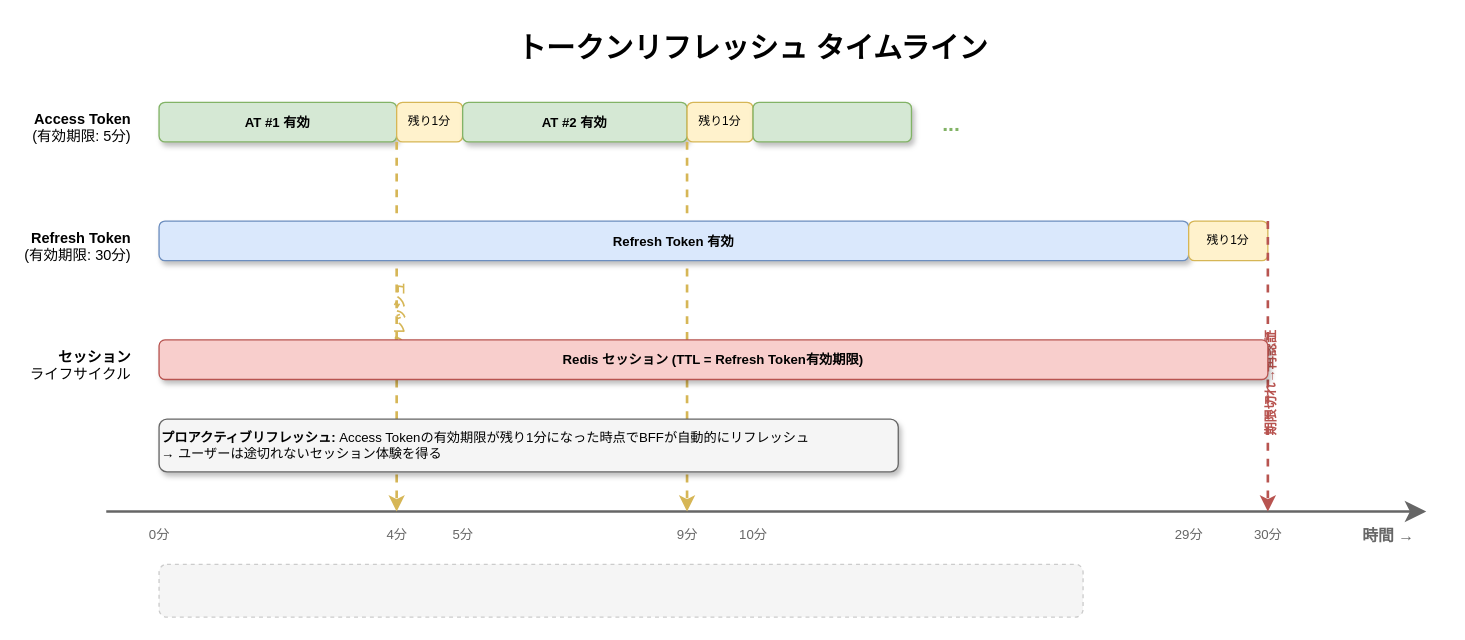
Image size: 1465x640. Some labels were removed from this diagram. The centre of each missing label's shape, as x and y in pixels:
AT #3 有効: [832,123]
凡例: ■ AT有効 ■ RT有効 ■ リフレッシュ閾値 ■ セッション | リフレッシュポイント | 期限切れ: [620,590]
